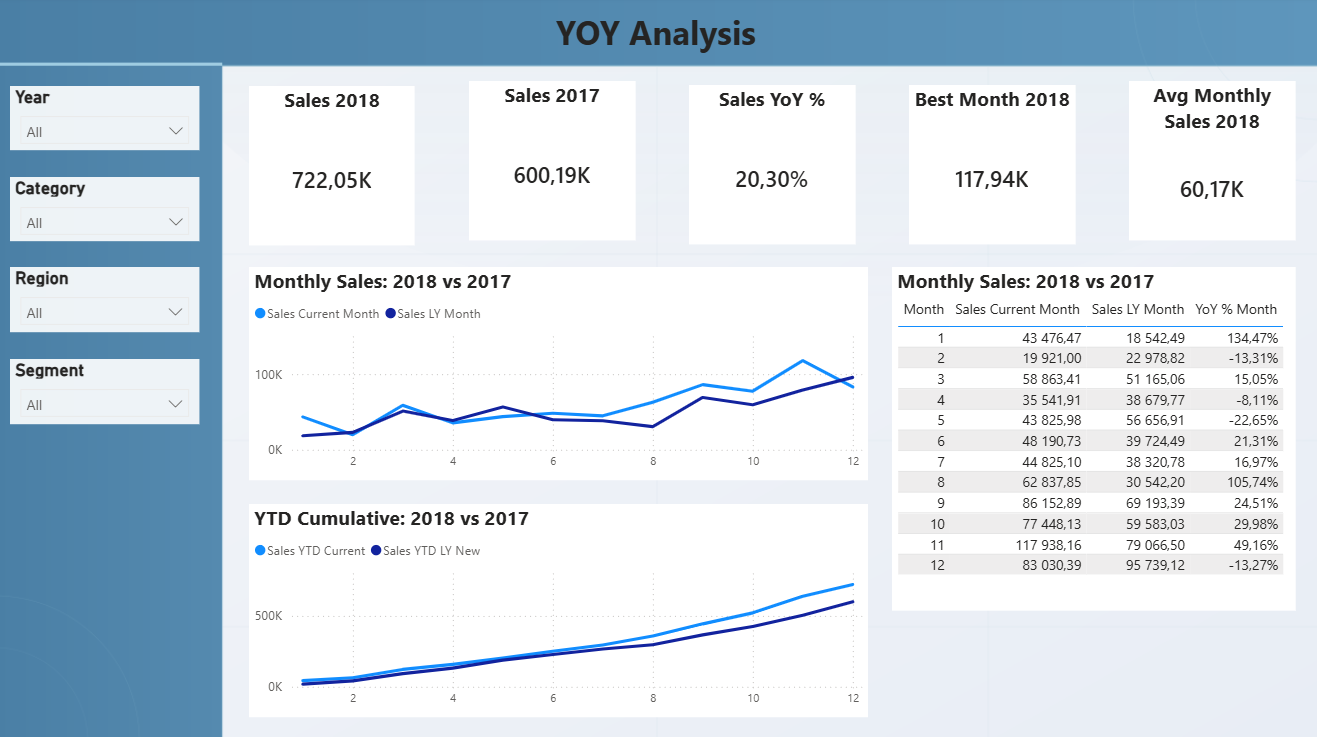

What the dashboard file says about the page in this screenshot:
{"tool":"powerbi","page":{"name":"YoY Analysis","canvas":[1280,720],"ordinal":3},"visuals":[{"type":"cardVisual","fields":{"Data":["orders.Sales Total"]},"box":[246.1,85.6,160.5,153.7],"z":0},{"type":"cardVisual","fields":{"Data":["orders.Sales LY Total"]},"box":[458.6,81.4,160.8,153.6],"z":1000},{"type":"cardVisual","title":"Sales YoY %","fields":{"Data":["orders.Sales YoY %"]},"box":[671.3,85.5,160.8,153.6],"z":2000},{"type":"slicer","title":"Region","fields":{"Values":["dim_region.region"]},"box":[15.5,261.3,182.6,62.8],"z":3000},{"type":"slicer","title":"Year","fields":{"Values":["dim_year.year"]},"box":[15.6,85.6,182.9,62.2],"z":4000},{"type":"textbox","box":[433.8,6.8,411.4,54.5],"z":5000},{"type":"lineChart","fields":{"Y":["orders.Sales Current Month","orders.Sales LY Month"],"Category":["dim_date.Month"]},"box":[246.2,260.5,598.3,205.5],"z":6000},{"type":"slicer","title":"Segment","fields":{"Values":["dim_segment.segment"]},"box":[15.5,349.7,182.6,62.8],"z":7000},{"type":"lineChart","fields":{"Category":["dim_date.Month"],"Y":["orders.Sales YTD Current","orders.Sales YTD LY New"]},"box":[246.2,489.4,598.3,205.5],"z":8000},{"type":"tableEx","fields":{"Values":["dim_date.Month","orders.Sales Current Month","orders.Sales LY Month","orders.YoY % Month"]},"box":[867.9,260.5,389.7,331.7],"z":9000},{"type":"slicer","title":"Category","fields":{"Values":["dim_category.category"]},"box":[15.6,173.4,182.9,62.2],"z":10000},{"type":"cardVisual","fields":{"Data":["orders.Best Month Sales"]},"box":[884.1,85.5,160.8,153.6],"z":11000},{"type":"cardVisual","fields":{"Data":["orders.Avg Monthly Sales"]},"box":[1096.9,81.4,160.8,153.6],"z":12000}]}

Visuals, with their boxes in screenshot pixels (x1, y1, x2, y2), scaled from the page's 1280x720 canvas onto the 1317x737 screenshot:
cardVisual - orders.Sales Total: region(253, 88, 418, 245)
cardVisual - orders.Sales LY Total: region(472, 83, 637, 241)
"Sales YoY %" cardVisual: region(691, 88, 856, 245)
"Region" slicer: region(16, 267, 204, 332)
"Year" slicer: region(16, 88, 204, 151)
textbox: region(446, 7, 870, 63)
lineChart - orders.Sales Current Month x orders.Sales LY Month: region(253, 267, 869, 477)
"Segment" slicer: region(16, 358, 204, 422)
lineChart - dim_date.Month x orders.Sales YTD Current: region(253, 501, 869, 711)
tableEx - dim_date.Month x orders.Sales Current Month: region(893, 267, 1294, 606)
"Category" slicer: region(16, 177, 204, 241)
cardVisual - orders.Best Month Sales: region(910, 88, 1075, 245)
cardVisual - orders.Avg Monthly Sales: region(1129, 83, 1294, 241)
